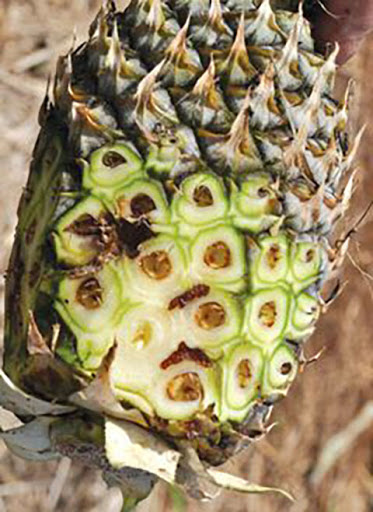damaged_pineapple: (24, 56, 304, 437)
